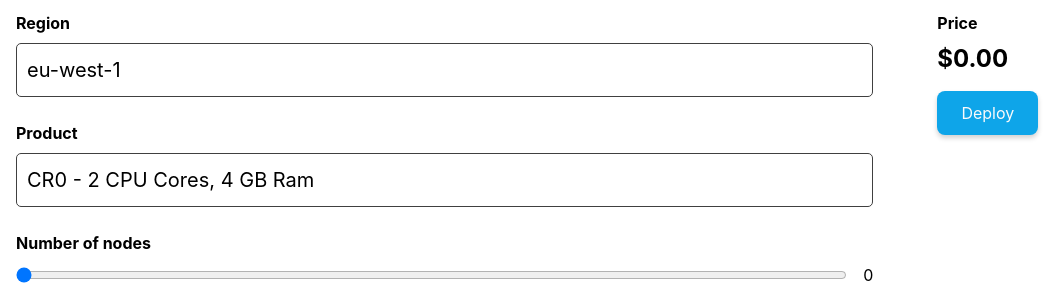
Test: The DeployPage component › should calculate default price given selected region, product and number of nodes
Select "us-east-1" in the dropdown named "region" at point(445, 70), box [27,49,862,91]
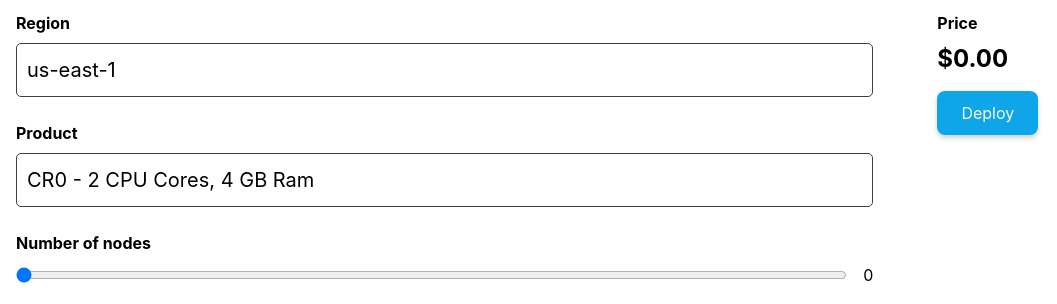
Select "CR3 - 16 CPU Cores, 32 GB Ram" in the dropdown named "product" at point(445, 180), box [27,159,862,201]
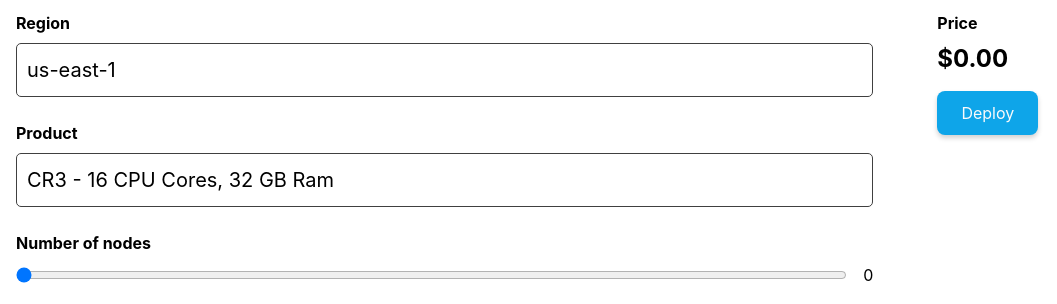
Set the slider named "nodes" to "8" at point(749, 275), box [16,263,847,287]
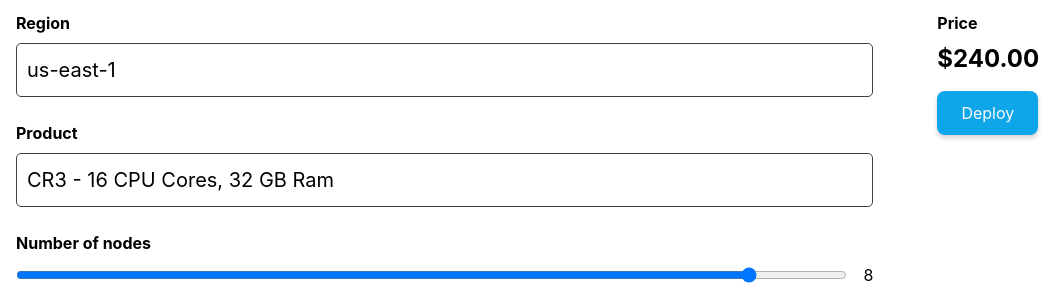
Now the text named "price" reads "$240.00", box [937,44,1039,73]
